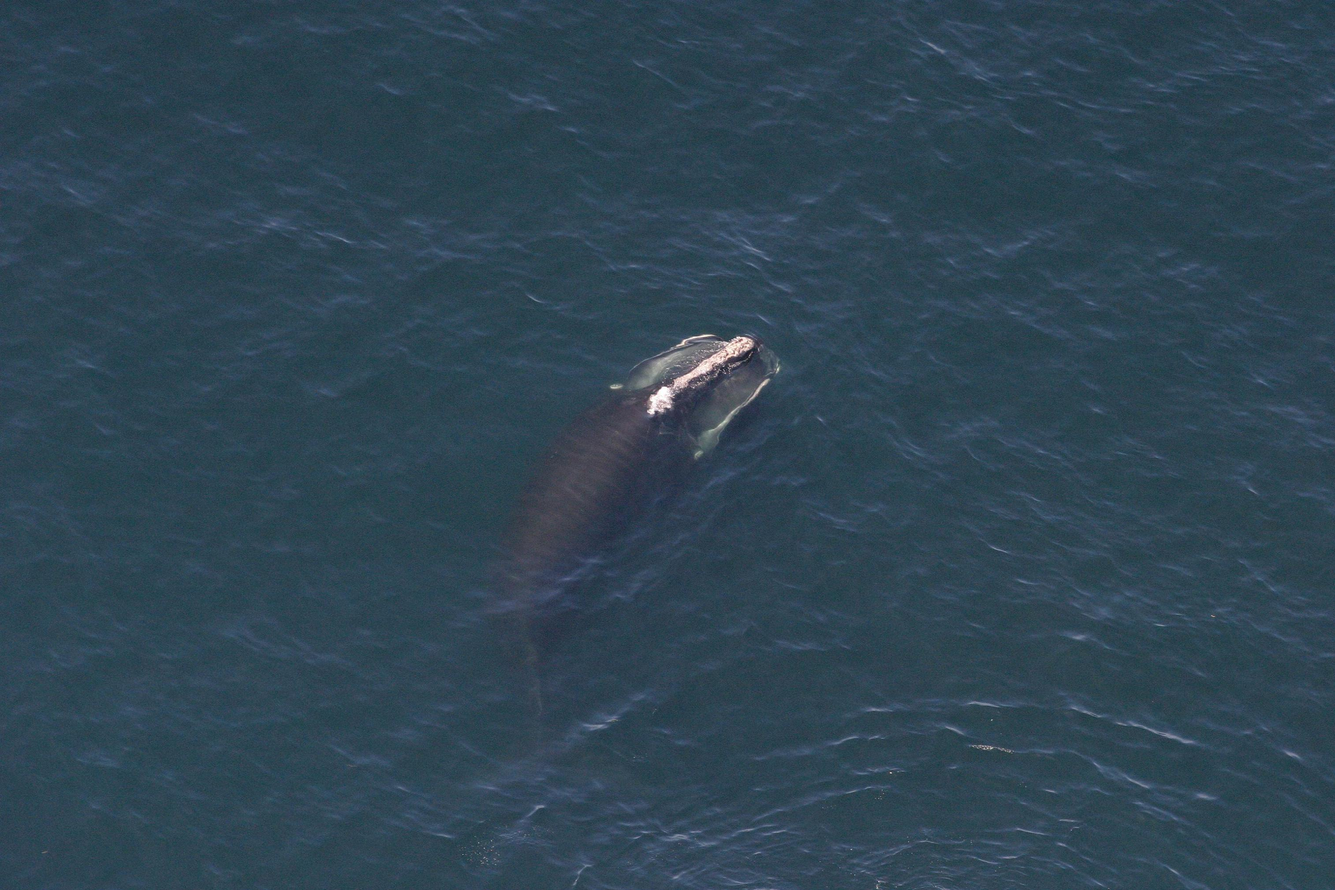whale: (465, 322, 787, 837)
